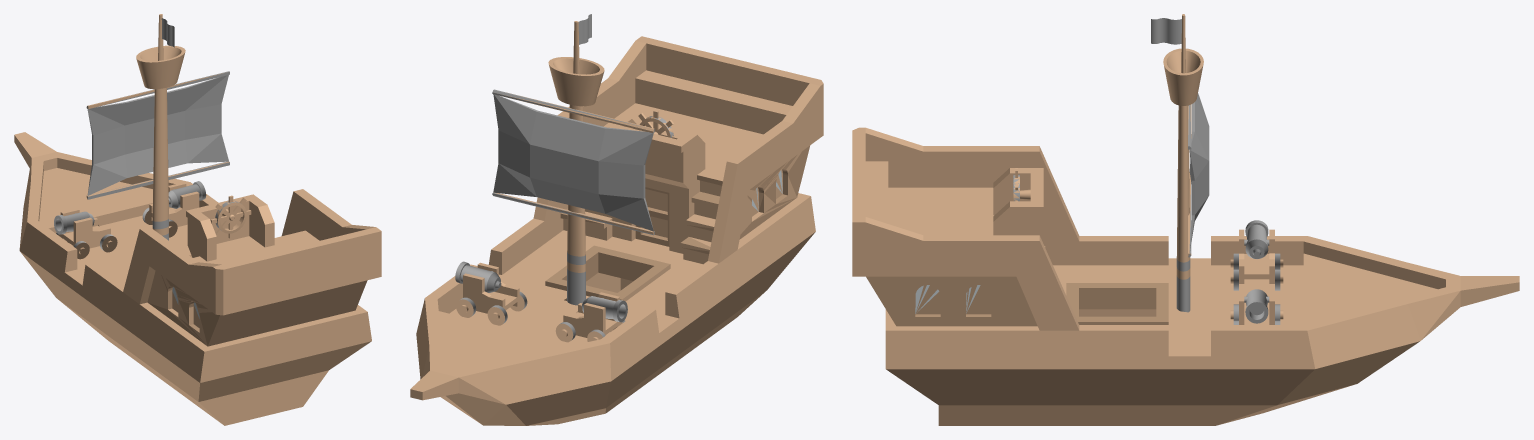
Rendered from enemyship.fbx.
3 views of the same model, side by side, from view 1: azimuth 30°, elevation 25°; view 2: azimuth 150°, elevation 25°; view 3: azimuth 270°, elevation 25° (orthographic). The views are drawn at different scales.
Visible parts, largest first — view 1: ship_dark, sail_middle, ship_mast, cannon_left, cannon_right, steering; view 2: ship_dark, sail_middle, ship_mast, cannon_right, cannon_left, steering; view 3: ship_dark, ship_mast, cannon_left, sail_middle, cannon_right.
Boxes of the visible parts, box(x1,y1,x2,y2) form: ship_dark: box(14, 132, 381, 425); sail_middle: box(86, 71, 229, 199); ship_mast: box(136, 14, 185, 240); cannon_left: box(54, 208, 117, 259); cannon_right: box(142, 181, 206, 237); steering: box(210, 195, 251, 238); ship_dark: box(410, 36, 823, 425); sail_middle: box(492, 89, 654, 235); ship_mast: box(548, 14, 604, 305); cannon_right: box(455, 261, 527, 325); cannon_left: box(555, 292, 627, 342); steering: box(633, 110, 678, 139); ship_dark: box(852, 127, 1519, 425); ship_mast: box(1151, 14, 1203, 312); cannon_left: box(1230, 220, 1283, 290); sail_middle: box(1188, 93, 1209, 257); cannon_right: box(1230, 289, 1283, 324).
Size of the model in its own units: 2850 by 5169 by 8049.
